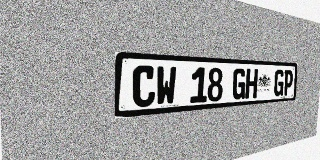1: (190, 67, 208, 103)
8: (207, 68, 224, 102)
C: (132, 65, 156, 108)
G: (232, 68, 246, 100), (273, 70, 284, 97)
H: (245, 69, 258, 99)
P: (283, 70, 293, 96)
W: (155, 66, 177, 106)
